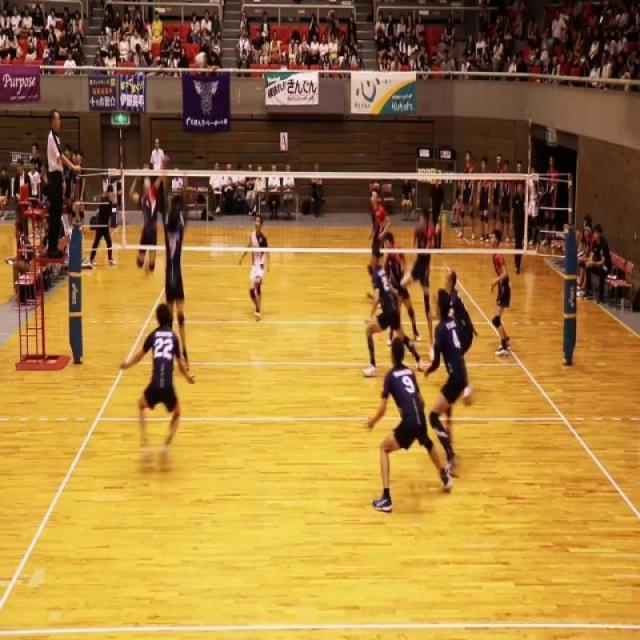volleyball: (195, 50, 208, 69)
